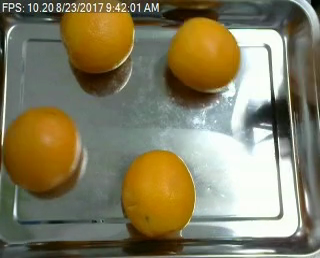Orange: (119, 148, 196, 236), (2, 106, 81, 191), (161, 16, 240, 91), (59, 1, 136, 73)
